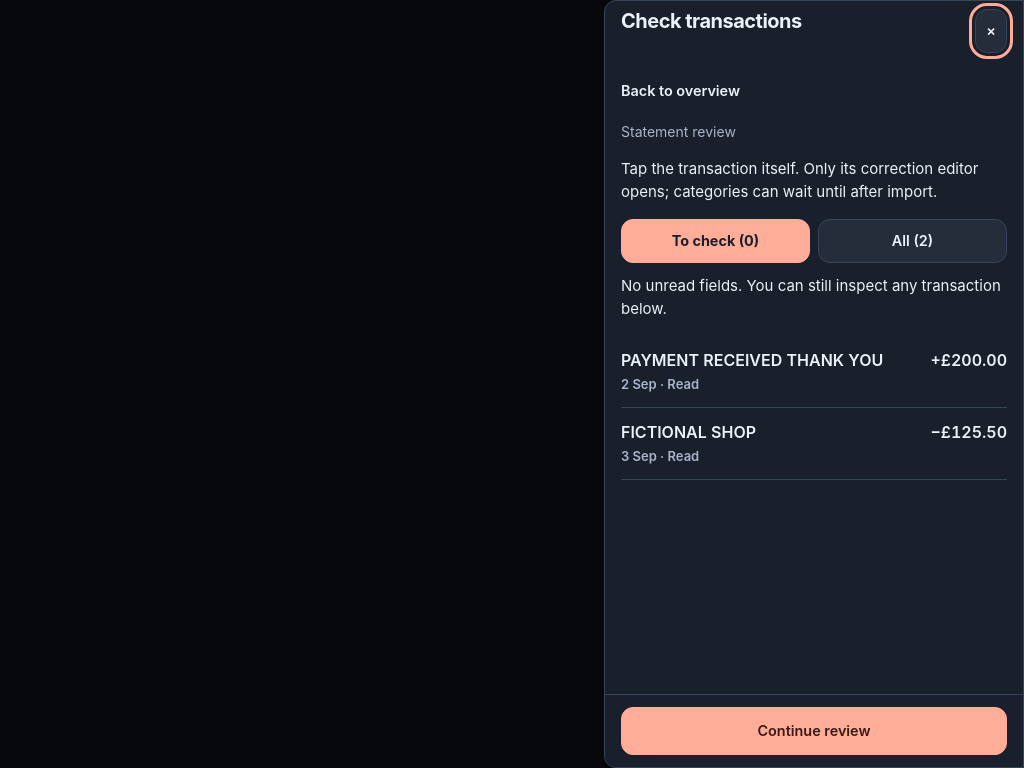
Test: manual statement review workspace › cancels an unsaved edit without changing the source
This screenshot has width=1024, height=768.
Click the button "FICTIONAL SHOP 3 Sep · Read −£125.50": [688, 432] box x1=621 y1=408 x2=1007 y2=480
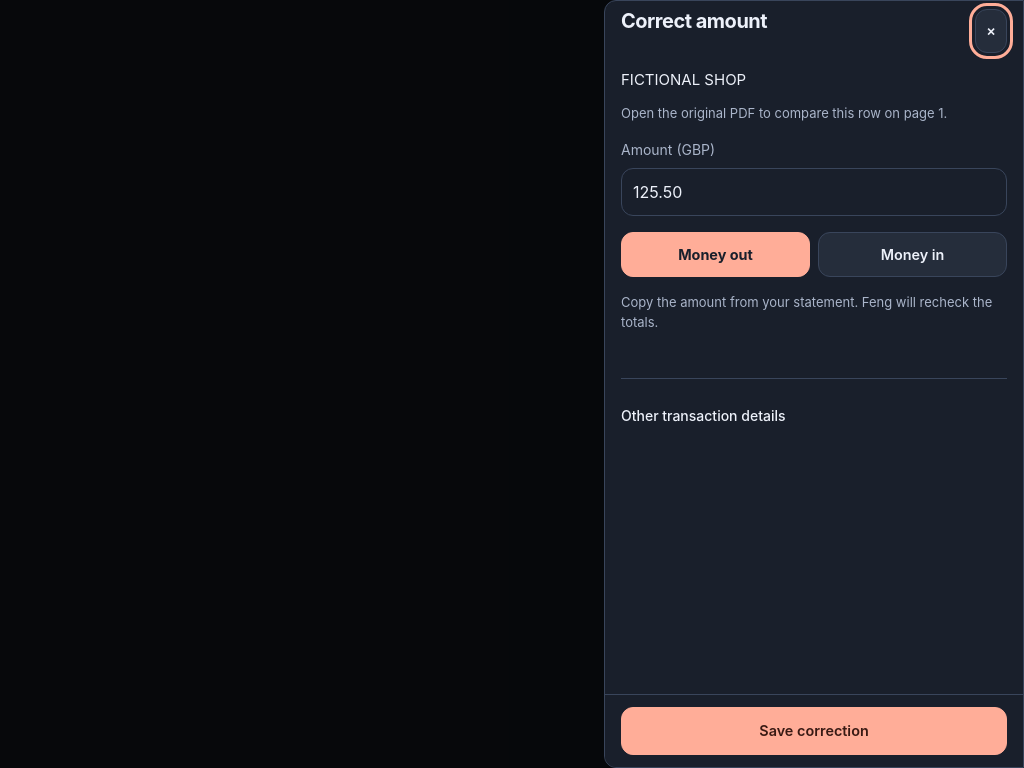
Replace the text in the field labelled "Amount (GBP)" with "9.99": [814, 192] box x1=621 y1=168 x2=1007 y2=216
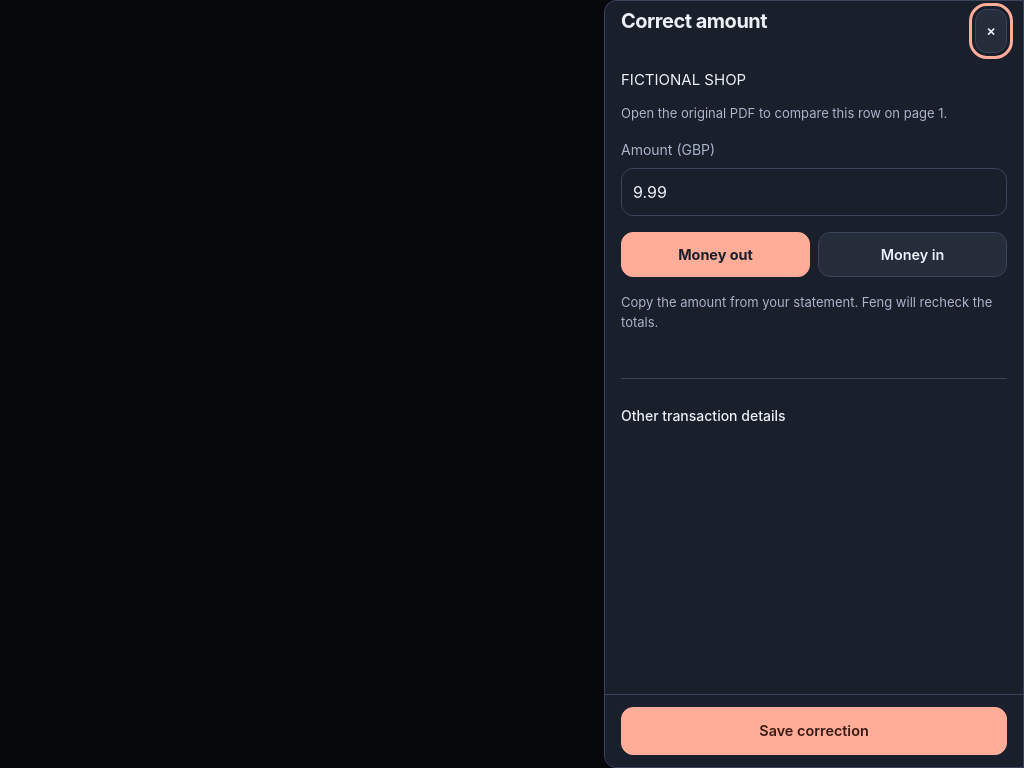
Click the button named "Cancel correction": [991, 31] box x1=975 y1=9 x2=1007 y2=53
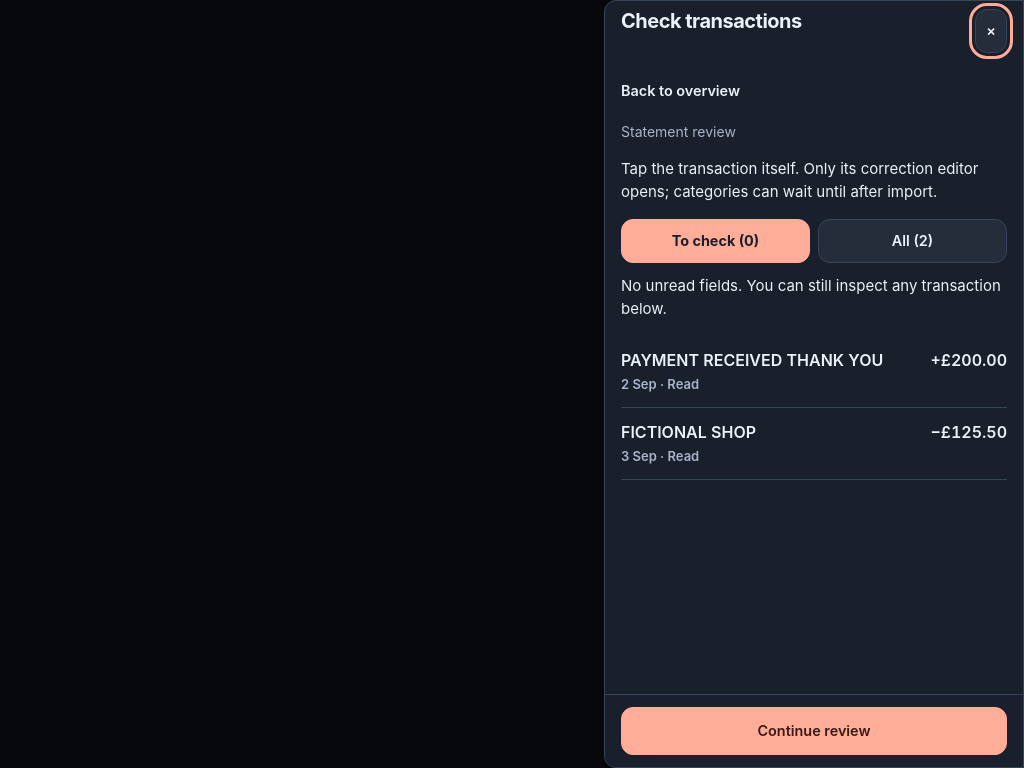
Click the button "FICTIONAL SHOP 3 Sep · Read −£125.50": [688, 432] box x1=621 y1=408 x2=1007 y2=480
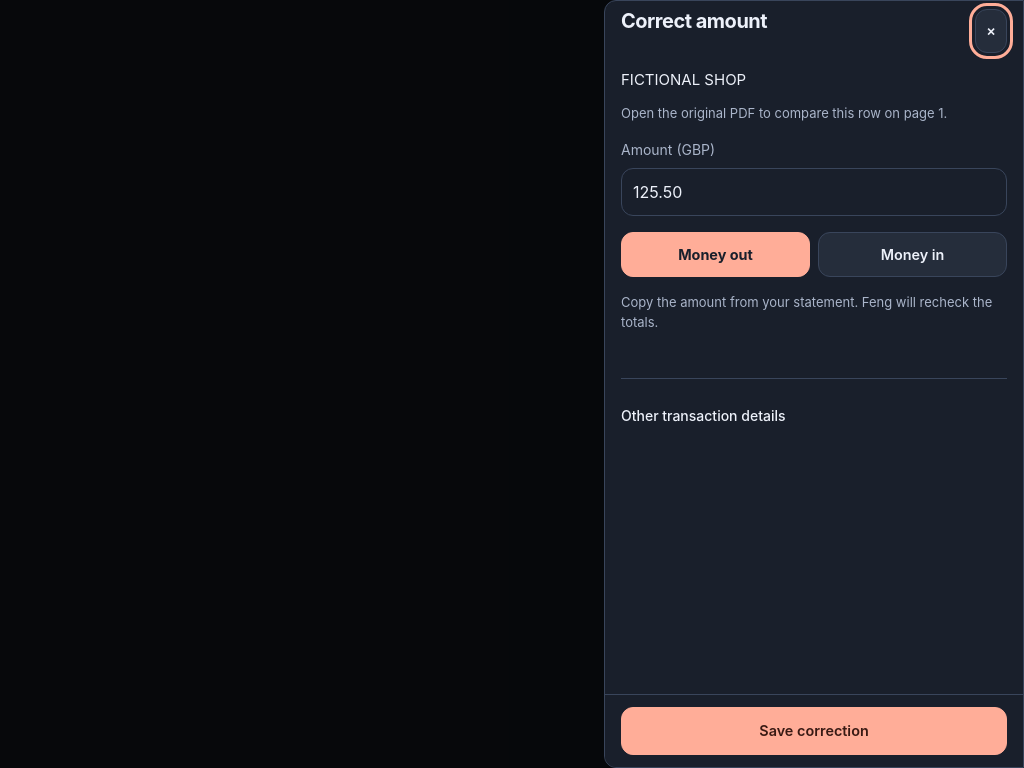
Now the field labelled "Amount (GBP)" holds "125.50", box x1=621 y1=168 x2=1007 y2=216
